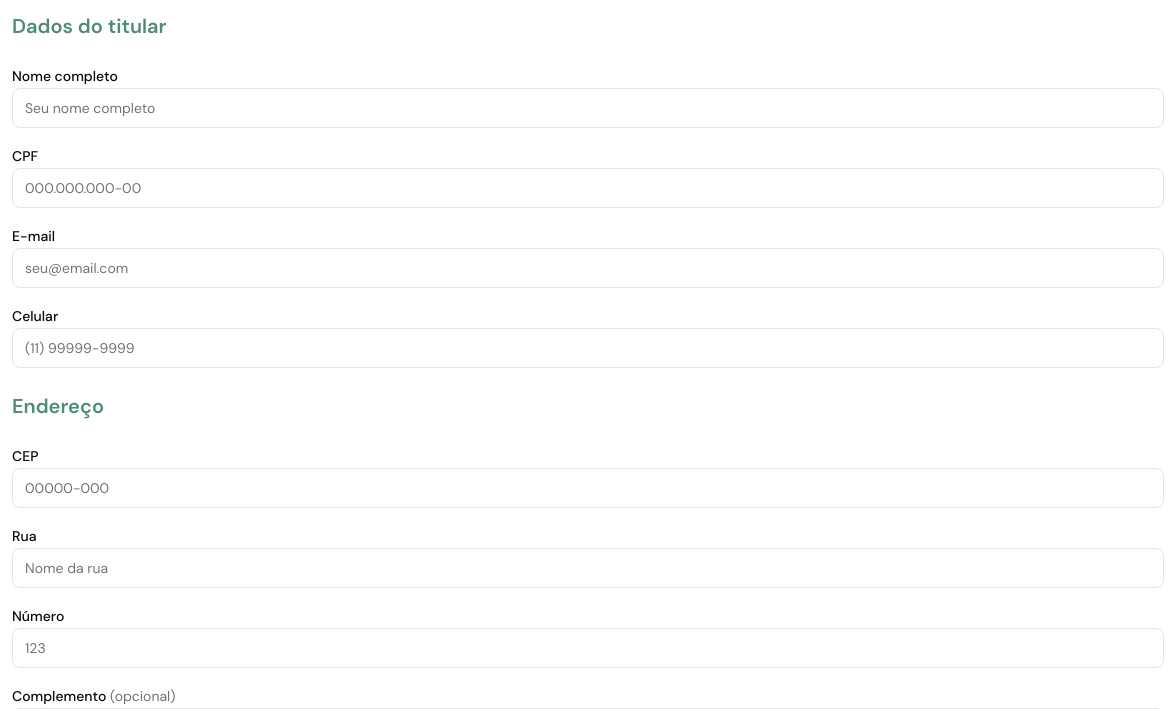
it: StepCadastro › should clear the CEP error when user starts typing a new CEP
The width and height of the screenshot is (1176, 709).
Type "88010000" into the field with placeholder "00000-000" at (588, 488), box [12, 468, 1164, 508]
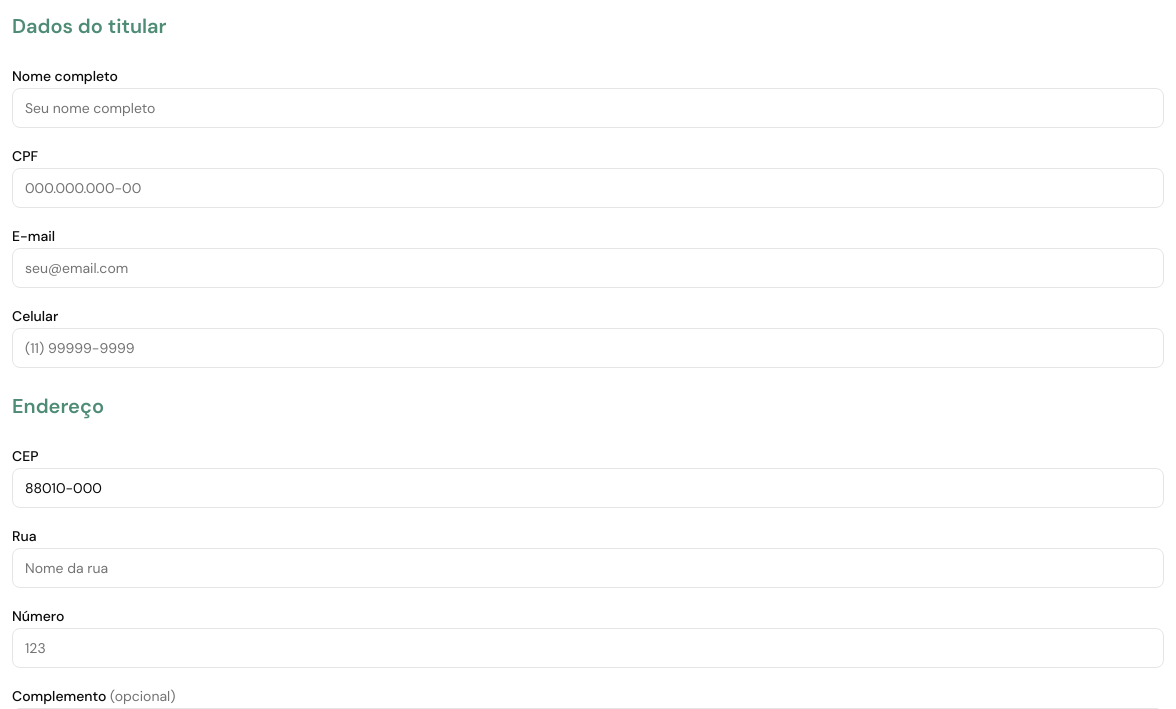
Leave the field with placeholder "00000-000", box [12, 468, 1164, 508]
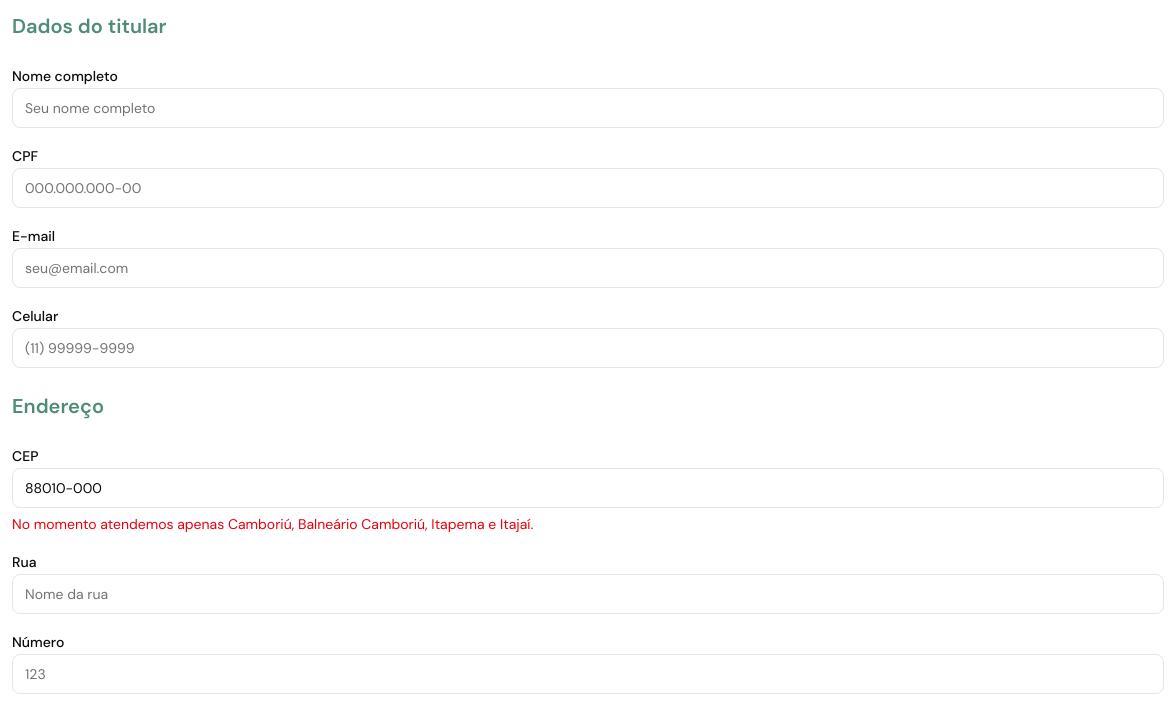
expect the text "No momento atendemos apenas Camboriú, Balneário Camboriú, Itapema e Itajaí." is shown: met, box [12, 515, 533, 533]
Note: Now user starts typing again — error should clear
Replace the text in the field with placeholder "00000-000" with "88340" at (588, 488), box [12, 468, 1164, 508]
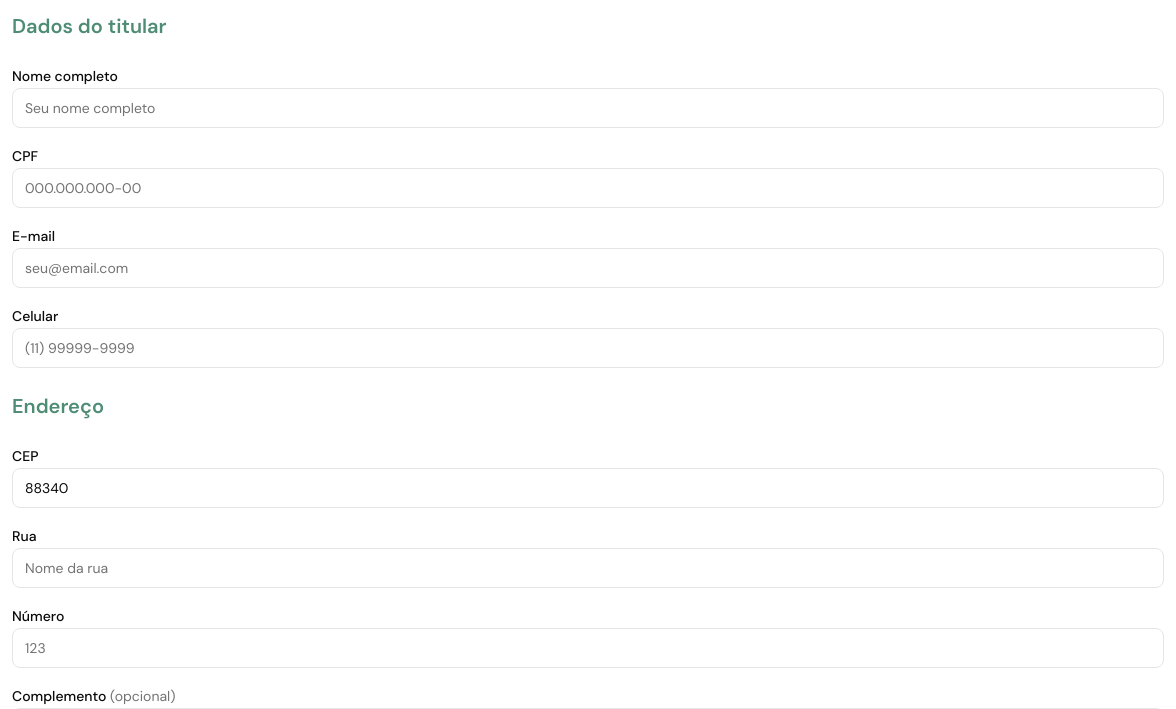
expect the text "No momento atendemos apenas" is gone: met
